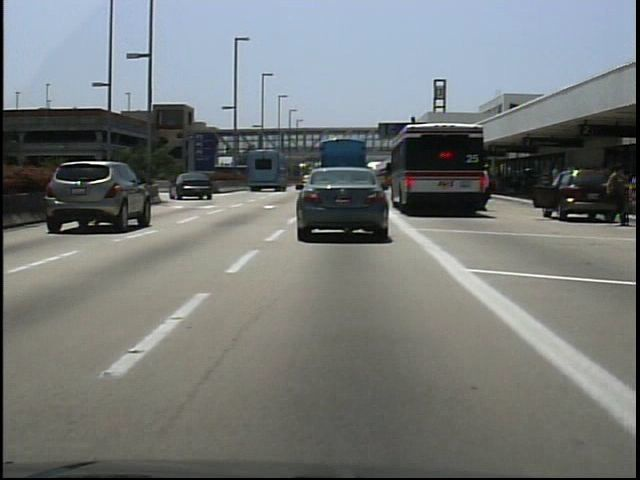person: (603, 161, 631, 229)
